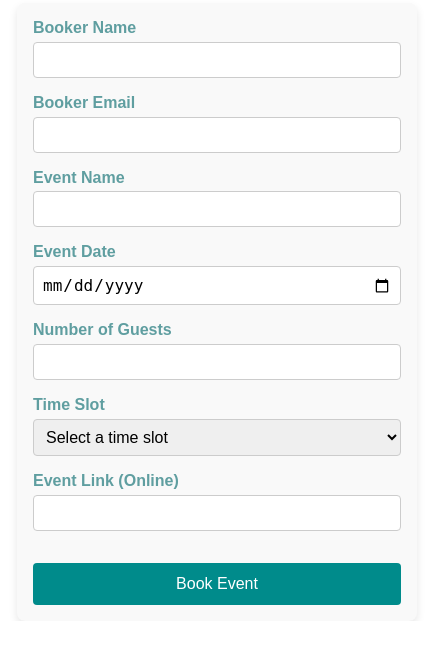
Test: BookingForm Component › shows validation errors when required fields are omitted
This screenshot has width=435, height=671.
Click the button "Book Event" at (217, 584), box [33,563,401,605]
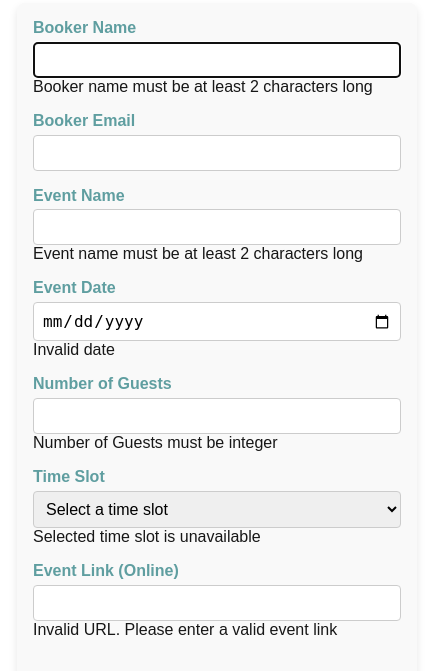
Now the text "Booker name must be at least 2 characters long" is shown, box [33,78,401,96]
Now the text "Event name must be at least 2 characters long" is shown, box [33,245,401,263]
Now the text "Invalid date" is shown, box [33,341,115,358]
